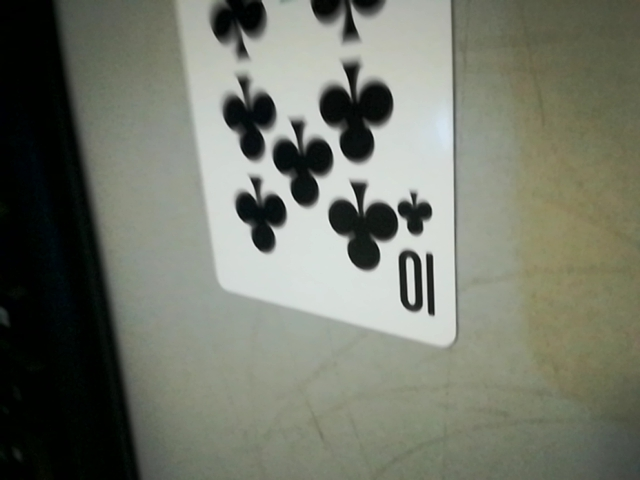mh 10: (390, 192, 448, 330)
